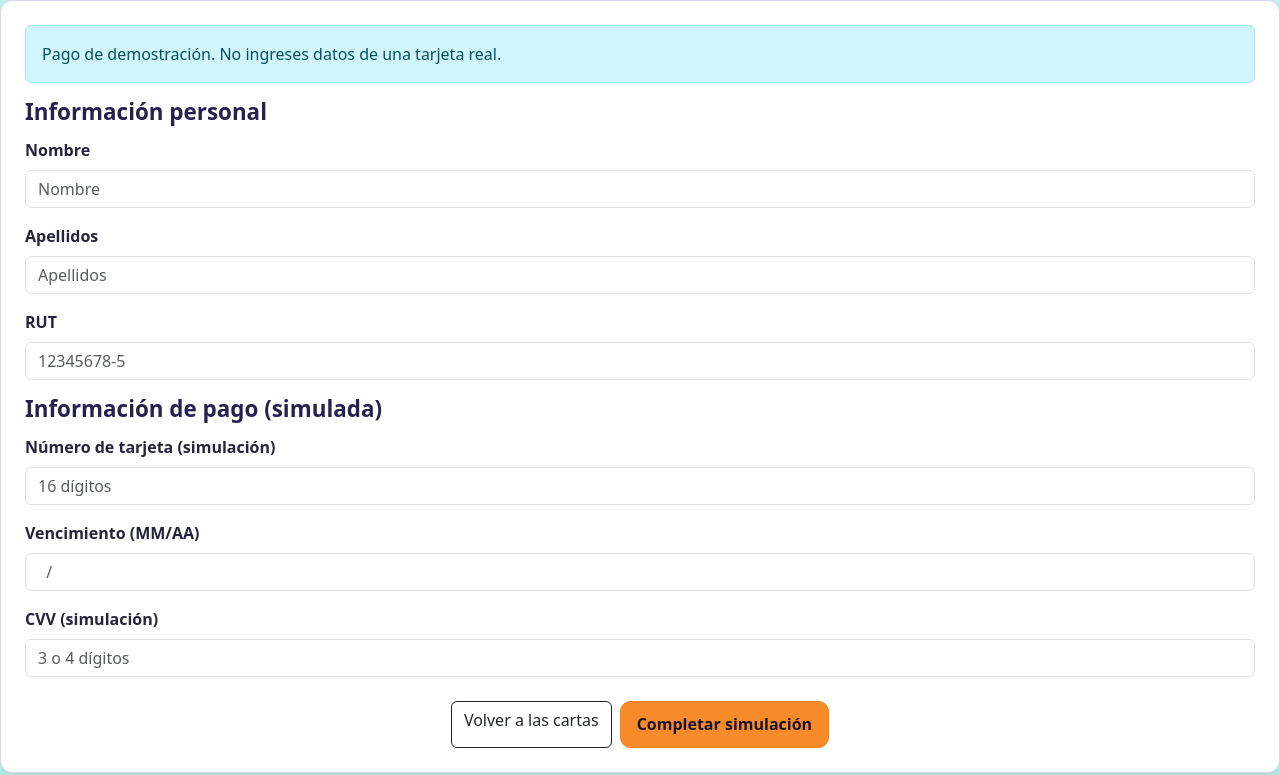
it: Organismo PaymentForm › formatea el vencimiento como MM/AA y deja solo dígitos en tarjeta y CVV
The width and height of the screenshot is (1280, 775).
Type "1228" into the field labelled "Vencimiento (MM/AA)" at (640, 572), box [25,553,1255,591]
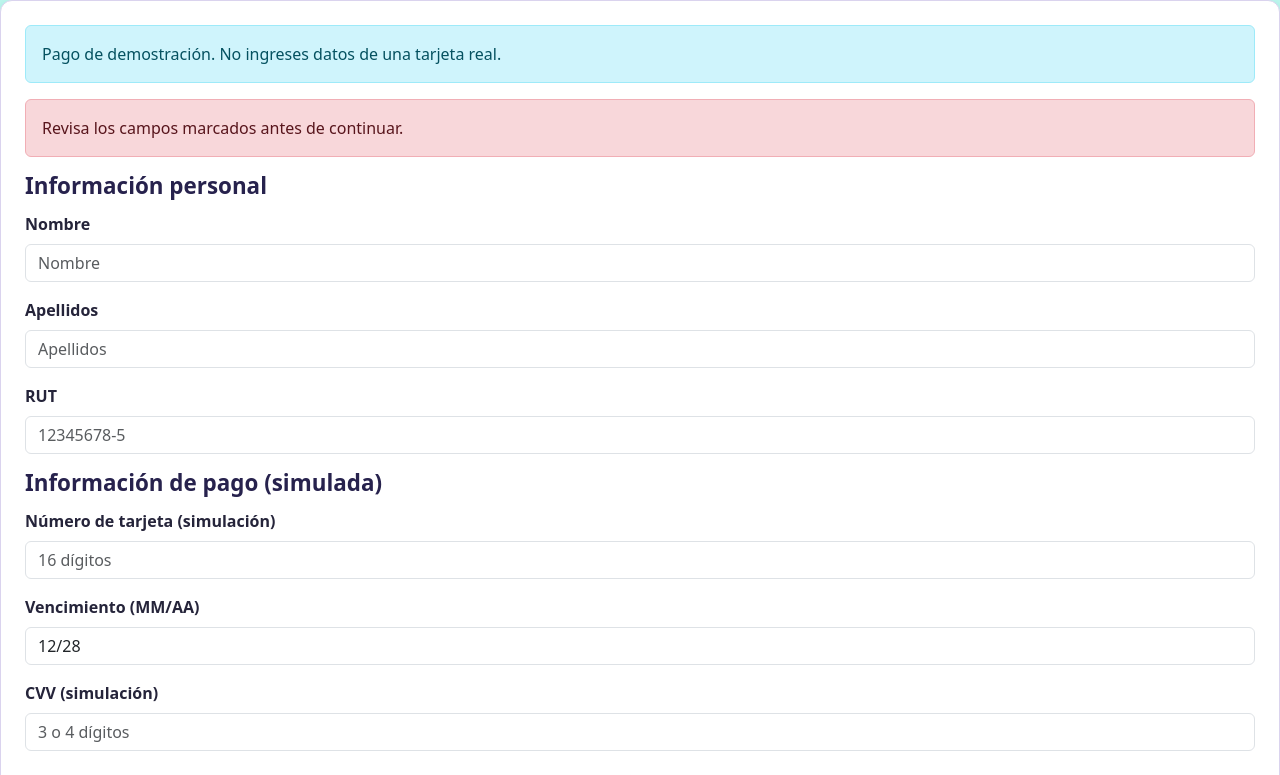
Now the field labelled "Vencimiento (MM/AA)" holds "12/28", box [25,627,1255,665]
Type "12ab34-56" into the field labelled "Número de tarjeta (simulación)" at (640, 560), box [25,541,1255,579]
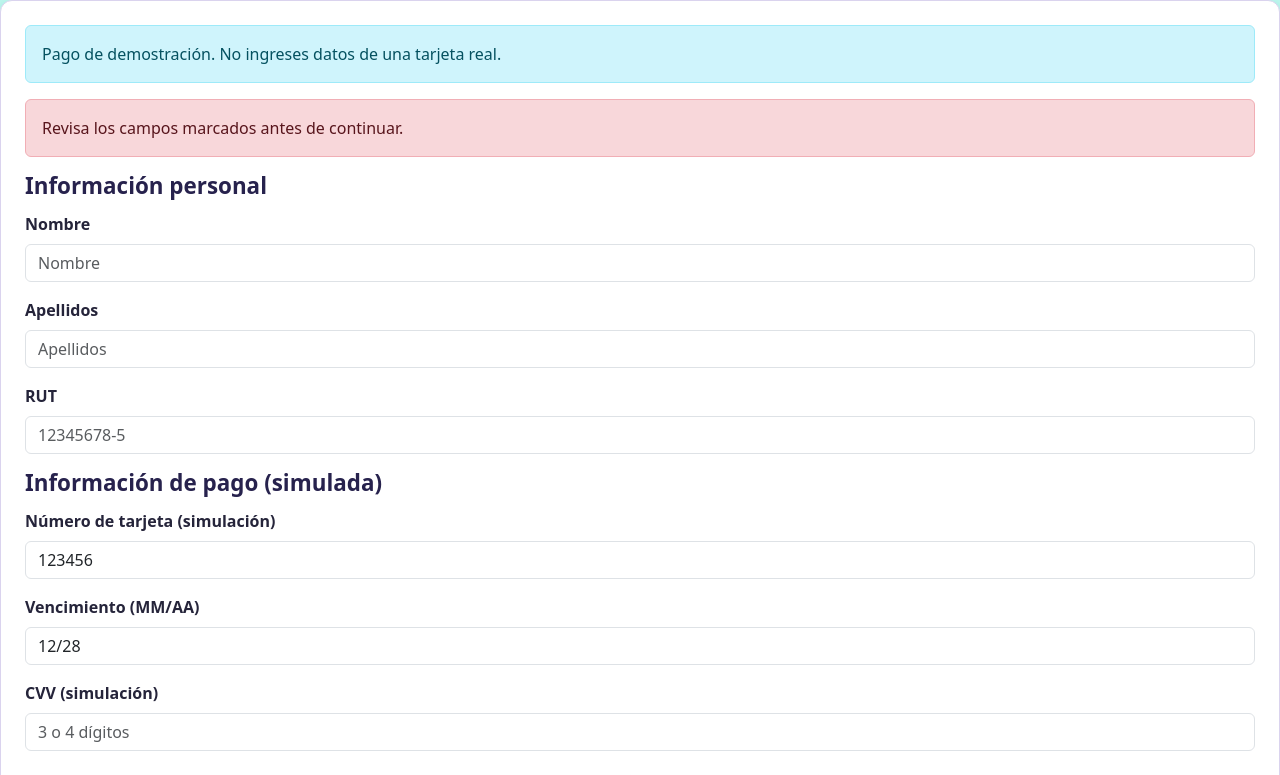
Now the field labelled "Número de tarjeta (simulación)" holds "123456", box [25,541,1255,579]
Type "1a2b3" into the password field labelled "CVV (simulación)" at (640, 732), box [25,713,1255,751]
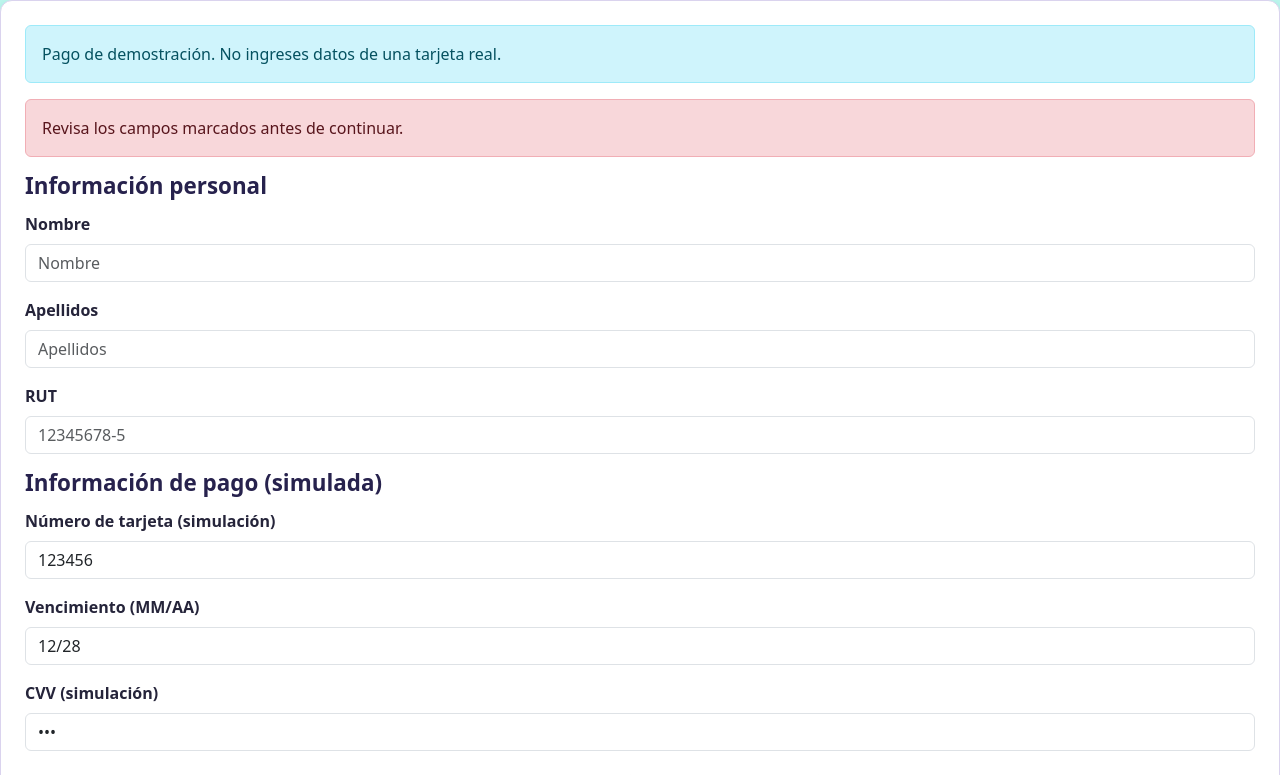
Now the password field labelled "CVV (simulación)" holds "123", box [25,713,1255,751]
